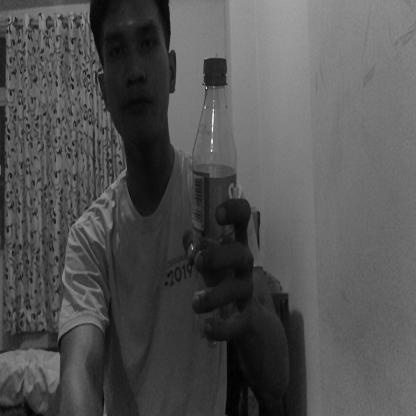plastic_bottles: (192, 57, 240, 348)
